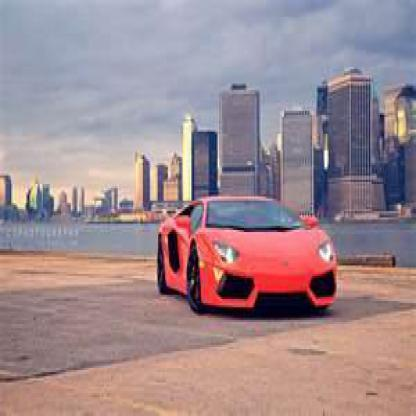Vehicle: (160, 195, 341, 316)
